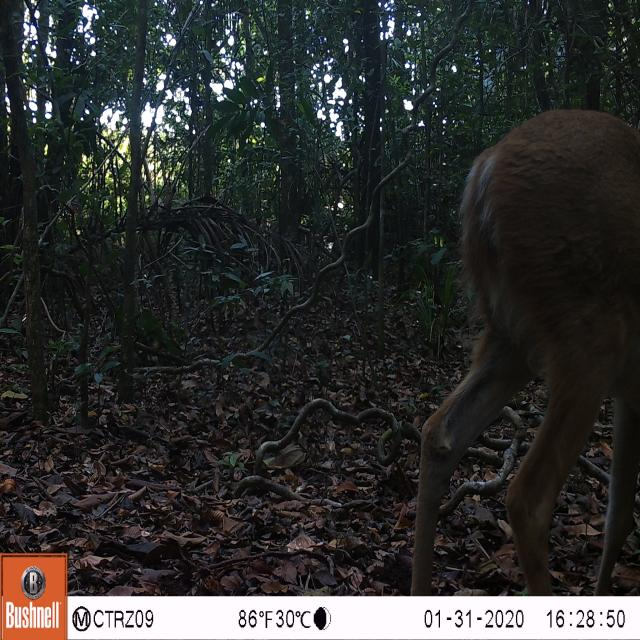White-tailed Deer: (401, 97, 640, 593)
